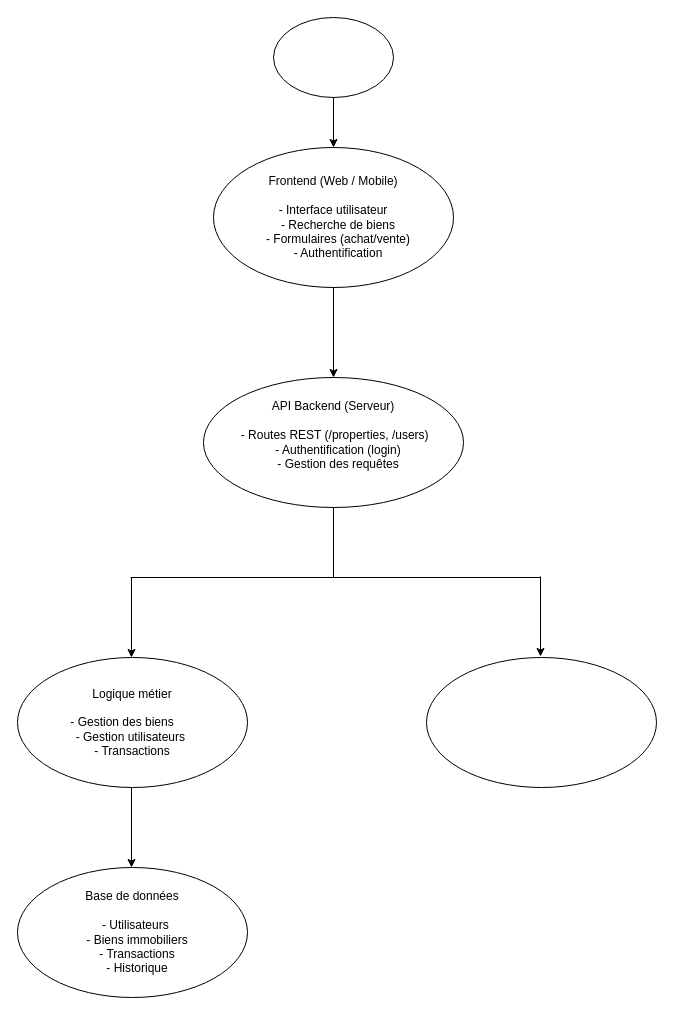
Image size: 674x1015. Some labels were removed from this diagram. Here are the shapes that lost their labels. From the top down, the box of each, then its label:
(272, 16, 394, 98): Utilisateurs (Clients & Agents
(426, 656, 656, 788): Module Data - Analyse marché - Statistiques - Prédictions
